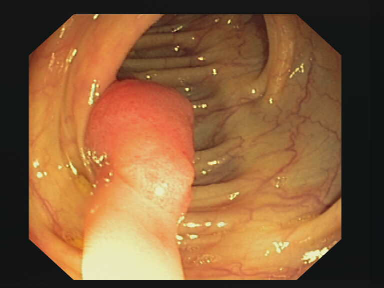polyp: (57, 65, 251, 277)
